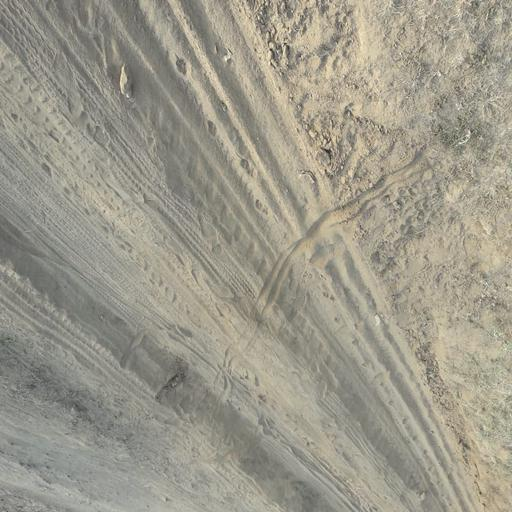vehicle_track: (0, 0, 485, 512)
